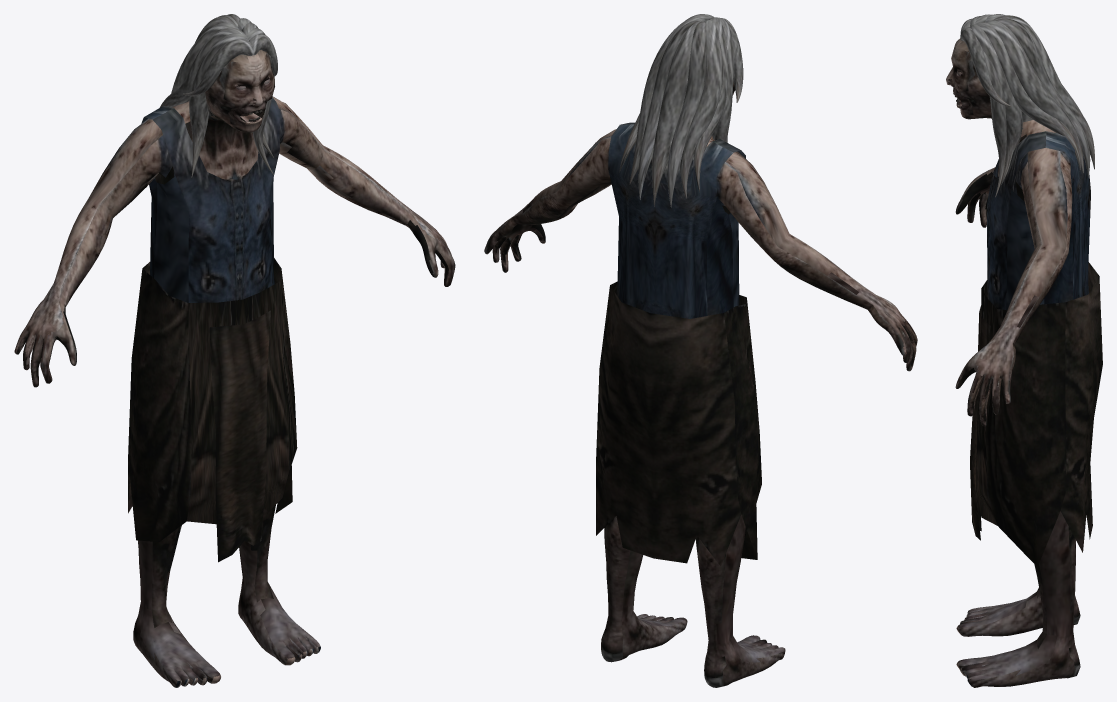
Rendered from ghoul_1784488827542_model.glb.
The picture shows the model from 3 angles, left to right: view 1: azimuth 30°, elevation 25°; view 2: azimuth 150°, elevation 25°; view 3: azimuth 270°, elevation 25°; orthographic projection.
Parts seen in each view (by area): view 1: Plane, Plane.003, Plane.001, Plane.002, NurbsPath.009, NurbsPath.007, NurbsPath.008, NurbsPath.010; view 2: Plane.003, Plane, Plane.001, NurbsPath.006, NurbsPath.010, NurbsPath.011, NurbsPath.005, NurbsPath.004, NurbsPath.008, NurbsPath.009; view 3: Plane, Plane.003, Plane.001, NurbsPath.004, NurbsPath.001, NurbsPath.003, NurbsPath.005, Plane.002, NurbsPath.002, NurbsPath.006, NurbsPath.
Part boxes in pixels (bbox=[...]): Plane: bbox=[14, 50, 455, 687]; Plane.003: bbox=[128, 258, 297, 542]; Plane.001: bbox=[141, 97, 280, 302]; Plane.002: bbox=[209, 310, 270, 562]; NurbsPath.009: bbox=[189, 33, 247, 177]; NurbsPath.007: bbox=[183, 39, 255, 96]; NurbsPath.008: bbox=[159, 27, 248, 107]; NurbsPath.010: bbox=[171, 22, 239, 93]; Plane.003: bbox=[596, 281, 761, 566]; Plane: bbox=[484, 81, 917, 687]; Plane.001: bbox=[608, 122, 745, 318]; NurbsPath.006: bbox=[652, 21, 703, 206]; NurbsPath.010: bbox=[680, 20, 722, 198]; NurbsPath.011: bbox=[667, 21, 706, 207]; NurbsPath.005: bbox=[638, 20, 700, 199]; NurbsPath.004: bbox=[629, 17, 705, 184]; NurbsPath.008: bbox=[694, 17, 728, 192]; NurbsPath.009: bbox=[712, 17, 733, 142]; Plane: bbox=[946, 38, 1083, 687]; Plane.003: bbox=[976, 262, 1102, 566]; Plane.001: bbox=[987, 131, 1090, 309]; NurbsPath.004: bbox=[987, 21, 1083, 173]; NurbsPath.001: bbox=[976, 22, 1080, 170]; NurbsPath.003: bbox=[970, 24, 1022, 184]; NurbsPath.005: bbox=[994, 18, 1090, 177]; Plane.002: bbox=[970, 305, 990, 540]; NurbsPath.002: bbox=[983, 51, 1006, 197]; NurbsPath.006: bbox=[993, 17, 1094, 169]; NurbsPath: bbox=[960, 27, 1011, 106].
Bounding box in the file's own units: 1.75 × 2.5 × 0.5597.
Materials: 1 (1 with a texture image).
